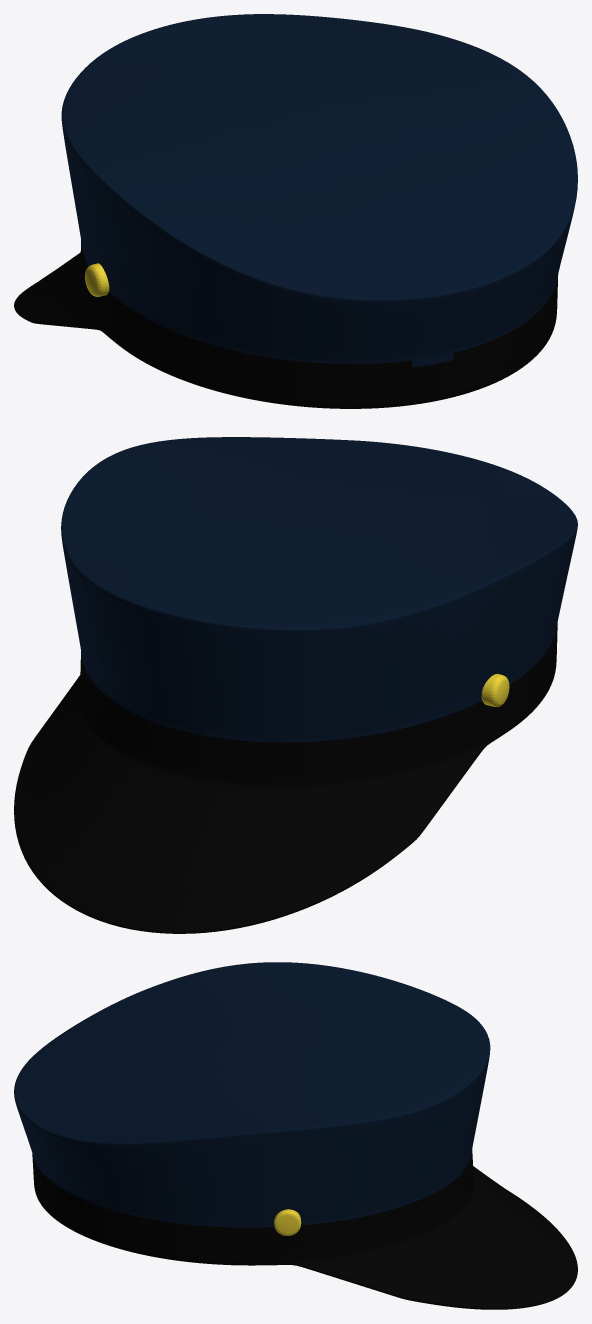
The model's file is AzizaHat.fbx.
The picture shows the model from 3 angles, top to bottom: view 1: azimuth 30°, elevation 25°; view 2: azimuth 150°, elevation 25°; view 3: azimuth 270°, elevation 25°; orthographic projection. The views are drawn at different scales.
Visible parts, largest first — view 1: Circle, Cylinder.001; view 2: Circle, Cylinder.001; view 3: Circle, Cylinder.001.
Part boxes in pixels (x1,y1,x2,y2): Circle: (14, 14, 577, 408); Cylinder.001: (85, 263, 109, 296); Circle: (14, 437, 577, 933); Cylinder.001: (481, 673, 509, 706); Circle: (14, 962, 577, 1309); Cylinder.001: (274, 1209, 301, 1235).
Size of the model in its own units: 167 by 103 by 233.
